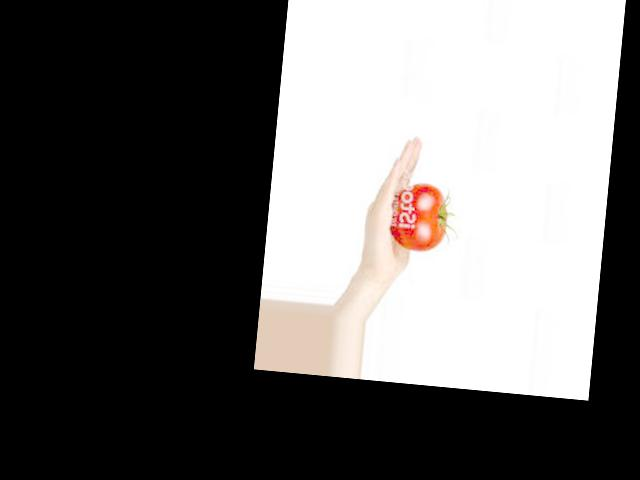tomato: (389, 181, 451, 254)
